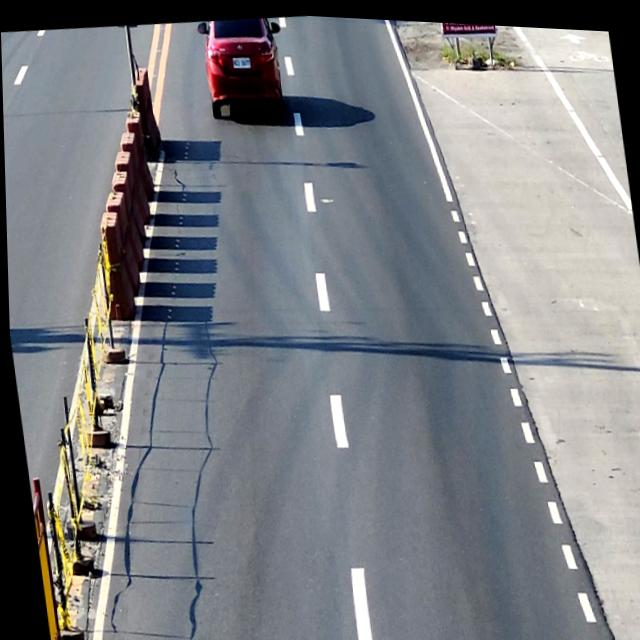Car: (196, 10, 292, 119)
License-Plate: (232, 52, 251, 67)
